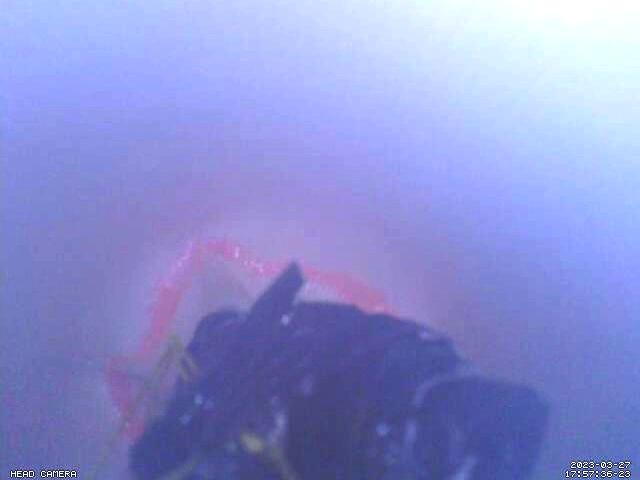head: (104, 235, 396, 443)
